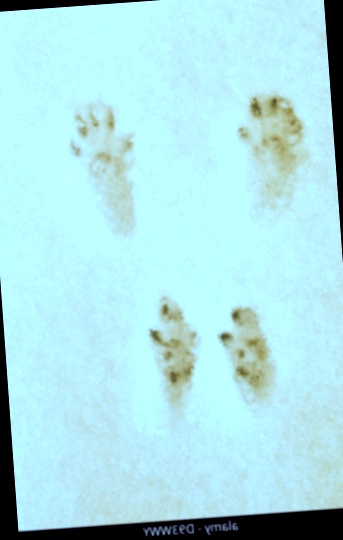ecureuil: (212, 77, 324, 252), (51, 86, 156, 256), (134, 278, 210, 437), (210, 293, 290, 418)
